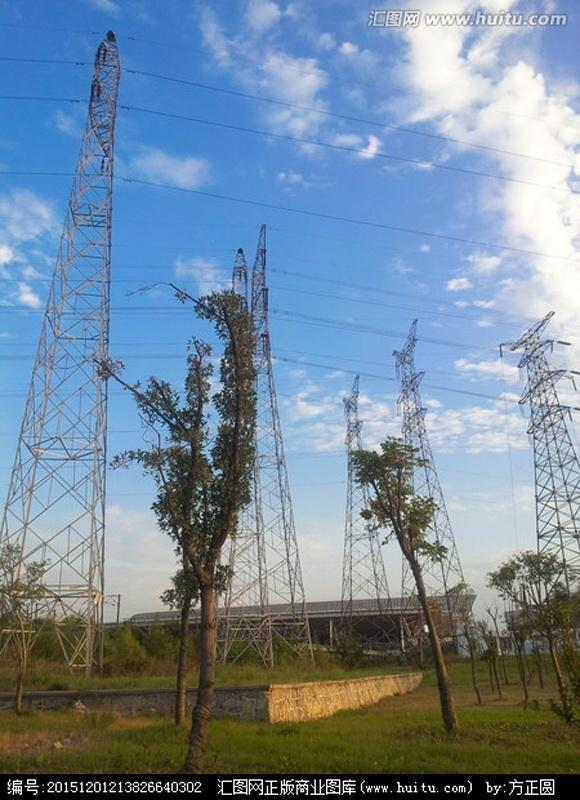power_tower: (0, 21, 121, 690), (392, 319, 486, 662), (249, 224, 318, 676), (499, 309, 580, 655), (218, 220, 272, 674), (333, 365, 402, 666)
